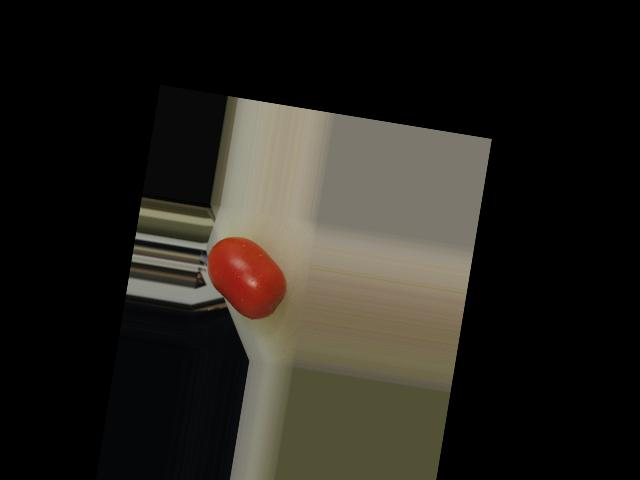tomato: (199, 232, 293, 323)
